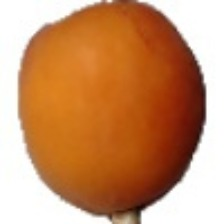apricot: (60, 52, 198, 193)
